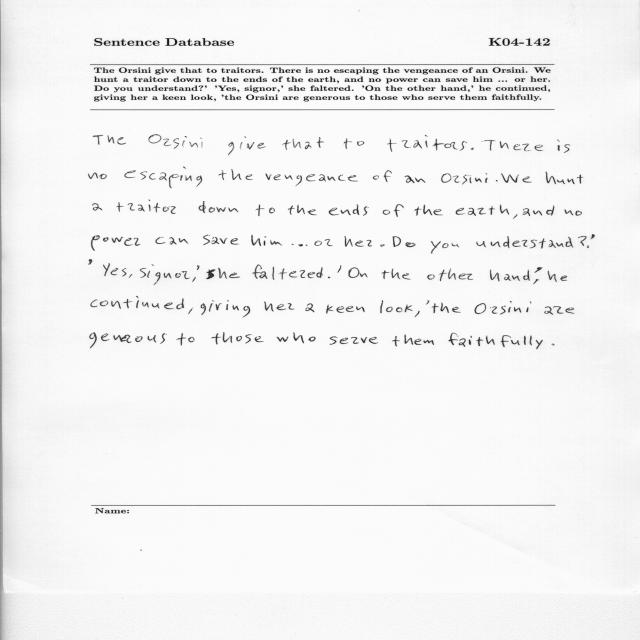word: (125, 167, 202, 188), (448, 333, 543, 349), (387, 135, 467, 152), (477, 236, 574, 249), (91, 296, 184, 309), (90, 333, 165, 349), (266, 173, 358, 186), (140, 264, 190, 285), (253, 265, 323, 280), (201, 300, 250, 318), (117, 200, 176, 214), (149, 134, 203, 149), (475, 301, 532, 315), (92, 235, 141, 251), (228, 137, 266, 156), (482, 140, 543, 151), (456, 204, 509, 216), (212, 333, 264, 345), (441, 173, 487, 185), (427, 269, 473, 281), (283, 137, 324, 150), (490, 269, 530, 282), (329, 204, 369, 216), (199, 201, 238, 213), (392, 335, 434, 346), (546, 172, 584, 184), (329, 336, 378, 345), (380, 301, 413, 314), (277, 333, 316, 344), (219, 169, 253, 180), (431, 241, 459, 254), (203, 235, 239, 245), (326, 305, 365, 314), (251, 235, 282, 246), (93, 135, 126, 145), (103, 264, 127, 277), (523, 206, 554, 216), (264, 302, 295, 312), (415, 205, 443, 216), (344, 236, 372, 247), (382, 269, 410, 280), (501, 173, 531, 183), (288, 205, 317, 215), (432, 303, 460, 313), (383, 204, 404, 217), (545, 306, 575, 315), (156, 237, 189, 245), (393, 236, 415, 247), (218, 268, 240, 279), (372, 170, 392, 182), (256, 204, 275, 216), (344, 138, 364, 149), (177, 333, 195, 345), (349, 267, 368, 278), (557, 139, 570, 153), (533, 267, 543, 284), (405, 175, 425, 183), (192, 265, 200, 282), (88, 173, 107, 180), (578, 236, 589, 248), (315, 239, 333, 246), (547, 271, 557, 282), (565, 210, 582, 216), (206, 269, 216, 279), (306, 304, 315, 313), (93, 203, 102, 211), (560, 276, 567, 281), (292, 244, 308, 246), (338, 265, 342, 273), (188, 308, 193, 314), (415, 311, 420, 317), (513, 214, 517, 219), (591, 234, 595, 239), (89, 260, 93, 265), (380, 244, 385, 247), (426, 300, 429, 305), (129, 274, 132, 278), (471, 148, 474, 150), (552, 344, 555, 346), (496, 180, 498, 182), (328, 277, 330, 279)
